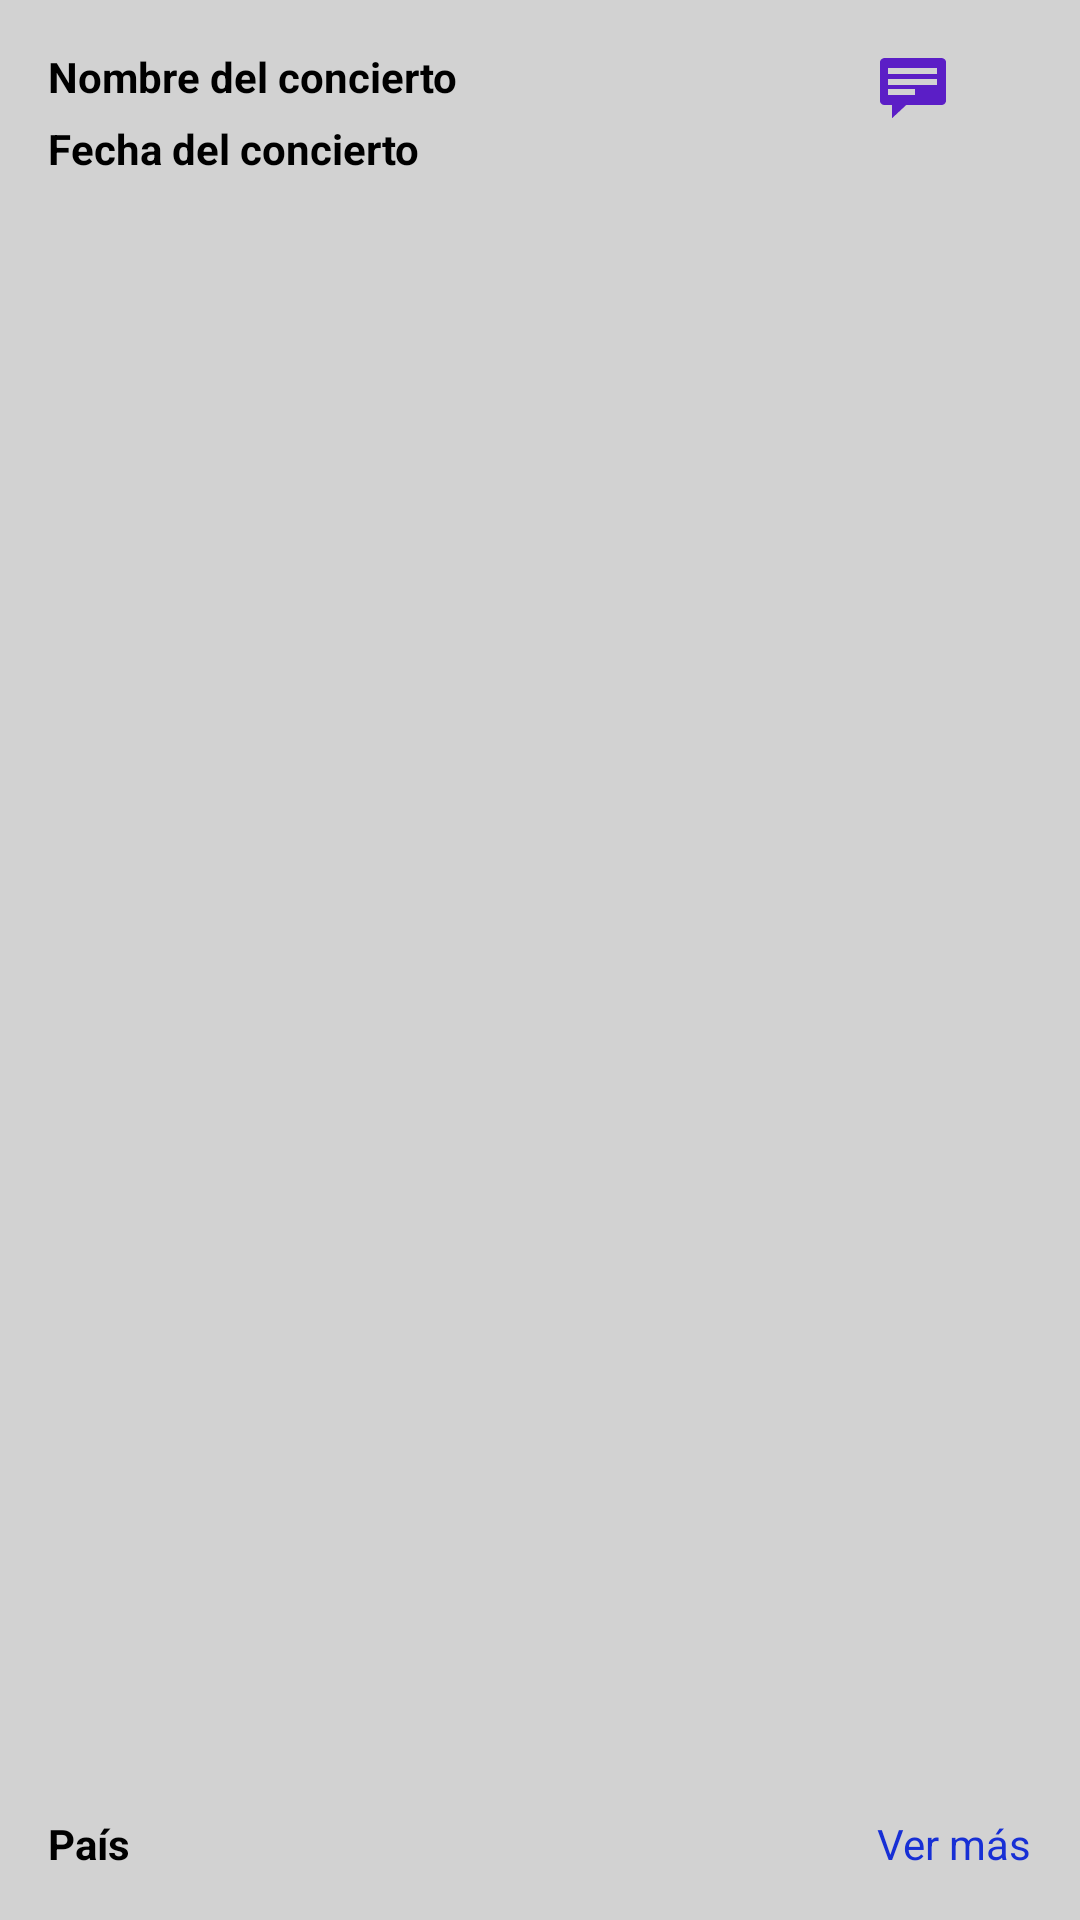

Where to tap for icons on this 1080w x 1920h app screen, as point (x, y):
chat: point (913, 88)
